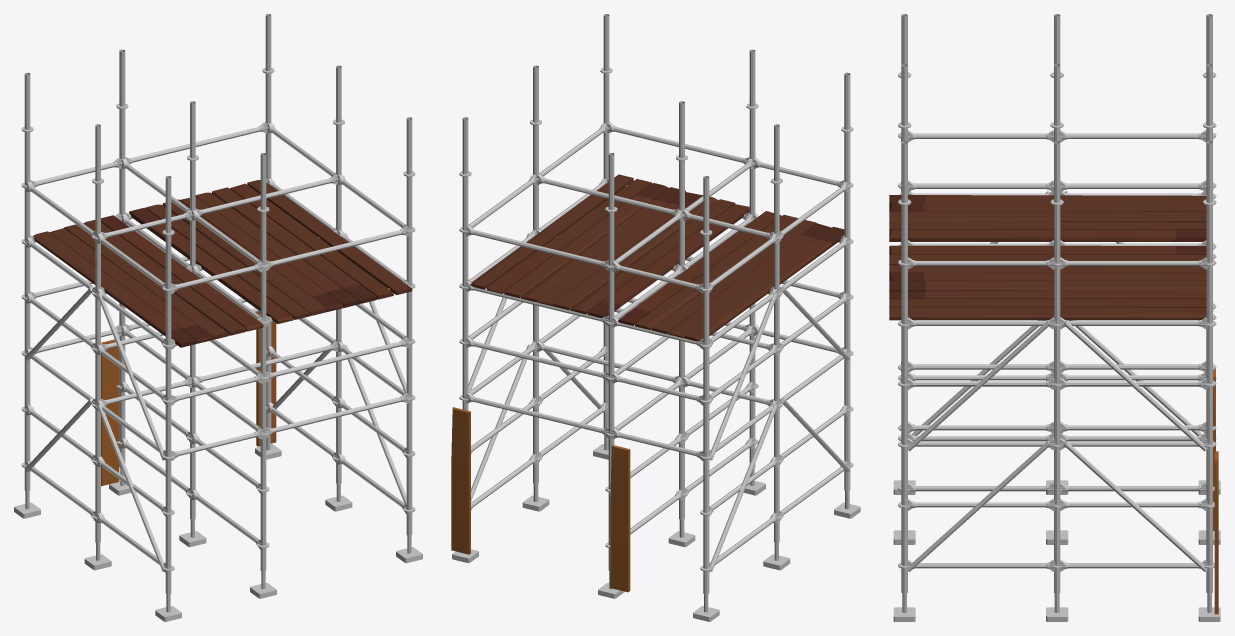
Rendered from City_Scaffolding01.fbx.
3 views of the same model, side by side, from view 1: azimuth 30°, elevation 25°; view 2: azimuth 150°, elevation 25°; view 3: azimuth 270°, elevation 25° (orthographic). The views are drawn at different scales.
Visible parts, largest first — view 1: SM_City_Scaffolding_01c.mo; view 2: SM_City_Scaffolding_01c.mo; view 3: SM_City_Scaffolding_01c.mo.
Part boxes in pixels (x1=…): SM_City_Scaffolding_01c.mo: x1=14, y1=14, x2=422, y2=621; SM_City_Scaffolding_01c.mo: x1=451, y1=14, x2=860, y2=621; SM_City_Scaffolding_01c.mo: x1=889, y1=14, x2=1220, y2=621.
Bounding box in the file's own units: 507 × 820 × 519.
